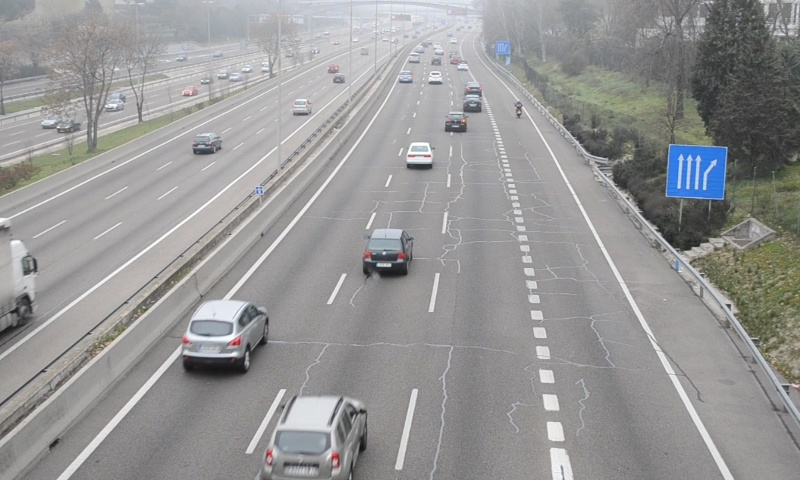car: (262, 394, 367, 480), (182, 300, 268, 358), (364, 229, 412, 272), (406, 141, 433, 166), (444, 111, 468, 132), (463, 95, 482, 112), (426, 70, 444, 86), (465, 81, 484, 96)
motorcycle: (514, 100, 524, 120)
